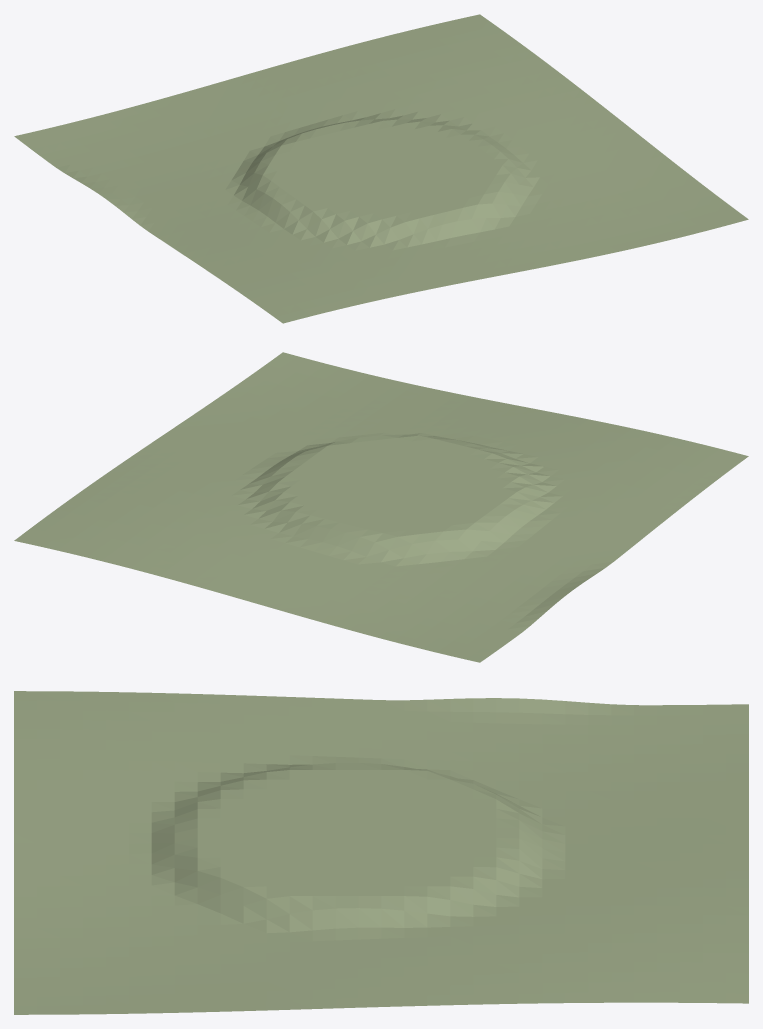
Rendered from coast-1-2.glb.
3 renders of one model, top to bottom at view 1: azimuth 30°, elevation 25°; view 2: azimuth 150°, elevation 25°; view 3: azimuth 270°, elevation 25°, orthographic. The views are drawn at different scales.
Visible parts, largest first — view 1: coast-1-2; view 2: coast-1-2; view 3: coast-1-2.
Part boxes in pixels (bbox=[...]): coast-1-2: bbox=[14, 14, 748, 323]; coast-1-2: bbox=[14, 352, 748, 662]; coast-1-2: bbox=[14, 691, 748, 1014].
Bounding box in the file's own units: 256 × 9 × 256.
